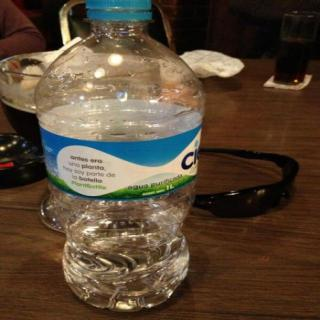Plastic-bottle: (32, 1, 215, 320)
